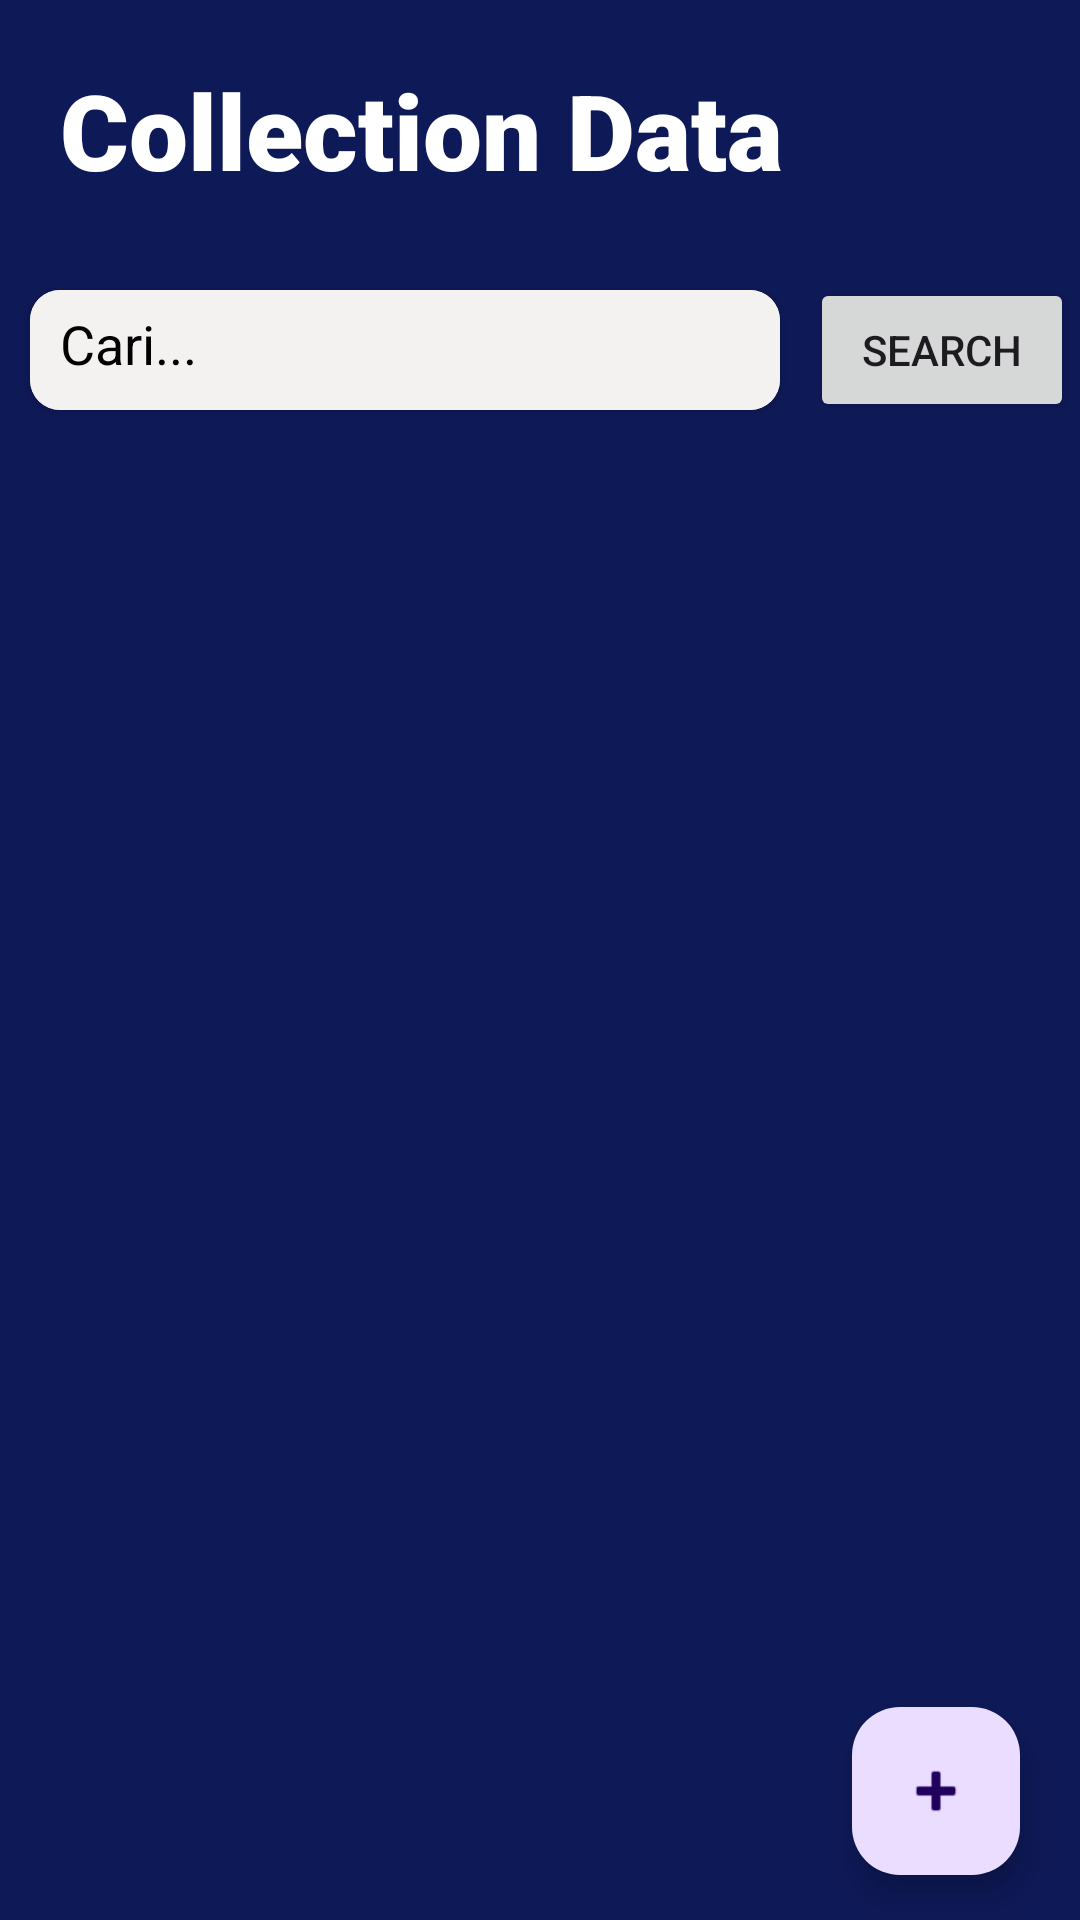

Icons on this 1080x1920 Android screen, each with the point to tap as point (x, y):
add: point (936, 1791)
